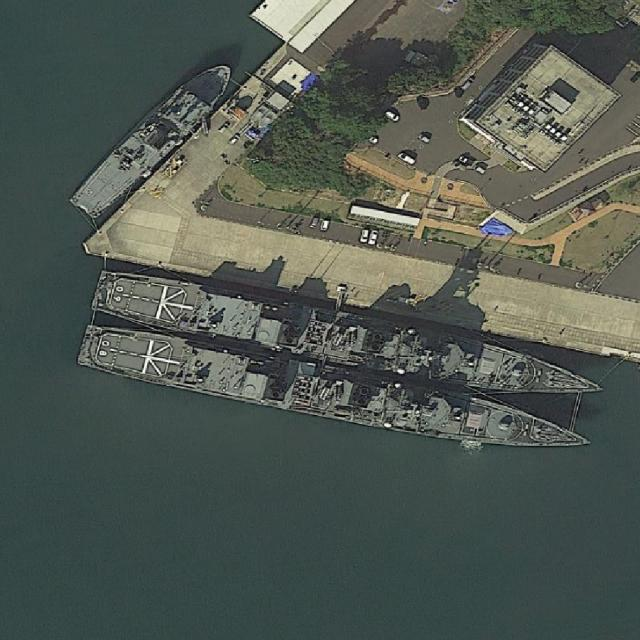Destroyer: (92, 261, 609, 412), (75, 319, 595, 467)
Other Warship: (64, 53, 243, 224)
